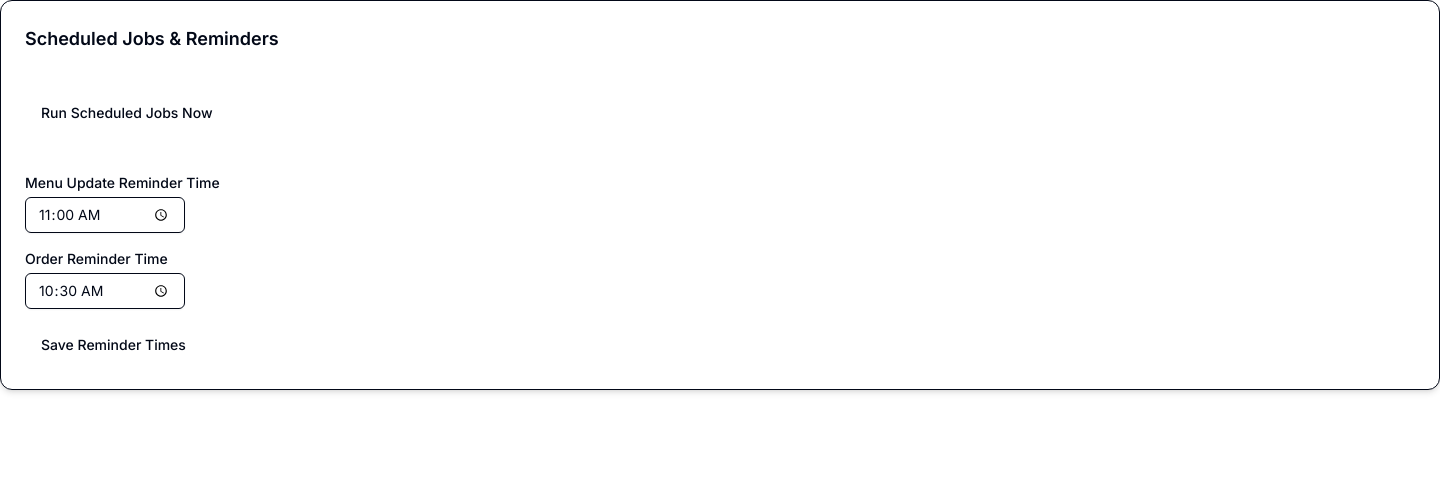
Test: ScheduledJobsPanel › runs scheduled jobs and displays result
Click the button "Run Scheduled Jobs Now" at (127, 113), box [25,93,228,133]
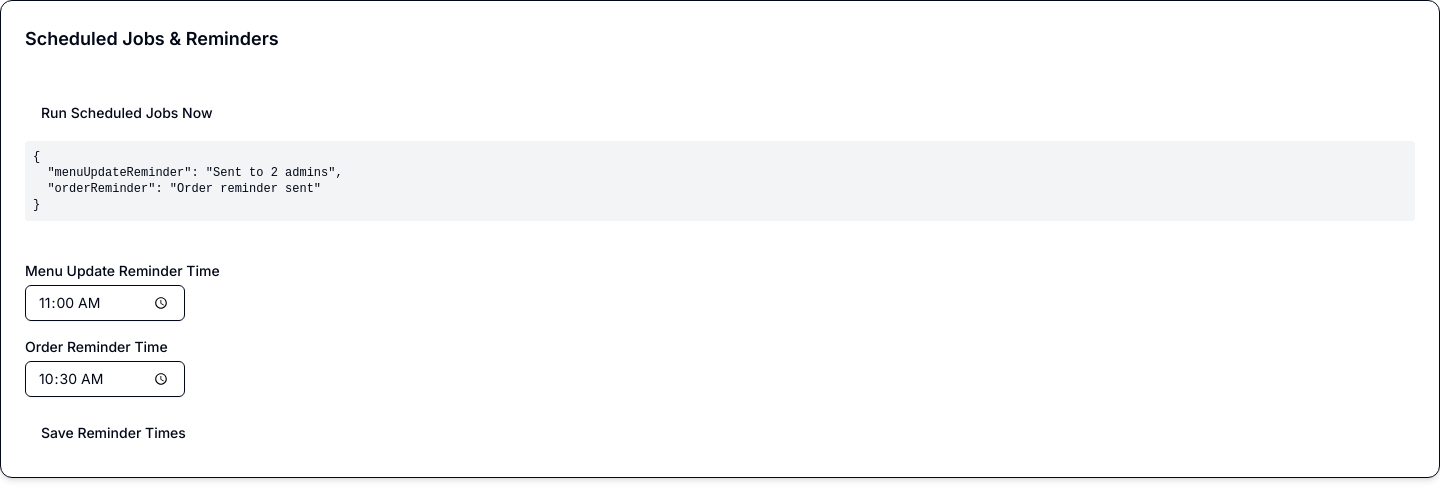
Check: the text "Order reminder sent" is shown, box [33,150,343,212]
